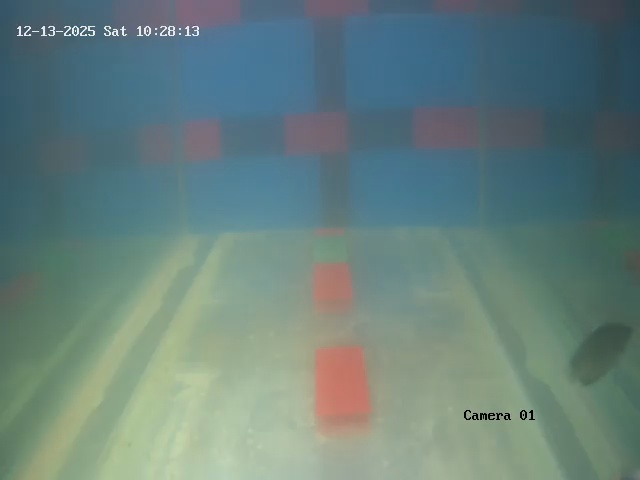fish: (572, 314, 634, 387)
